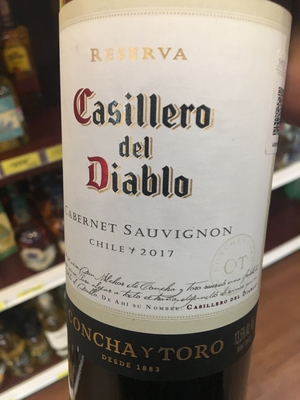casillero del diablo cabernet sauvignon: (59, 3, 296, 400)
